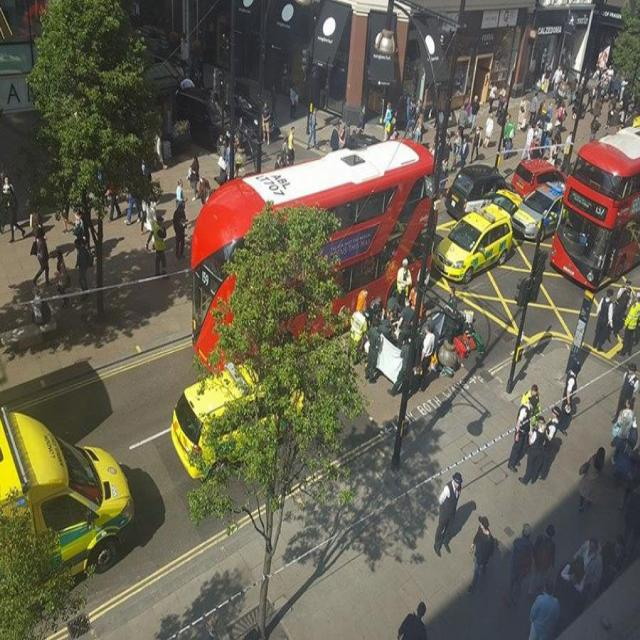body: (518, 50, 640, 170), (386, 95, 460, 181), (603, 439, 640, 588), (569, 534, 603, 624), (433, 470, 463, 558), (503, 522, 535, 602), (464, 516, 495, 598), (507, 394, 538, 472), (525, 576, 562, 639), (526, 522, 556, 597), (437, 498, 477, 553), (573, 446, 605, 513), (517, 414, 546, 487), (535, 404, 562, 480), (609, 394, 637, 466), (368, 288, 400, 351), (558, 358, 582, 438), (387, 332, 415, 398), (560, 555, 587, 623), (611, 362, 640, 425), (339, 102, 371, 154), (616, 289, 639, 356), (345, 305, 370, 365), (219, 126, 247, 179), (591, 287, 613, 352), (610, 279, 634, 338), (394, 598, 428, 639), (72, 235, 94, 298), (362, 316, 382, 383), (151, 214, 170, 283), (30, 225, 50, 290), (6, 184, 26, 246), (189, 176, 229, 207), (97, 234, 128, 272), (143, 193, 162, 254), (540, 434, 564, 479), (396, 295, 415, 350), (419, 321, 435, 386), (27, 288, 53, 326), (172, 203, 189, 260), (54, 248, 70, 307), (1, 176, 15, 237), (186, 152, 202, 202), (396, 257, 412, 306), (520, 383, 542, 417), (564, 394, 582, 435), (305, 106, 321, 152), (502, 112, 516, 162), (630, 284, 640, 350), (216, 138, 230, 185), (328, 120, 341, 170), (559, 131, 575, 170), (48, 236, 74, 260), (107, 179, 121, 223), (34, 204, 46, 252), (553, 100, 568, 138), (125, 193, 142, 226), (550, 63, 564, 103), (260, 100, 272, 146), (468, 94, 481, 134), (469, 124, 482, 164), (494, 86, 509, 120), (60, 190, 71, 235), (456, 102, 468, 142), (73, 204, 87, 238), (482, 111, 494, 150), (322, 71, 334, 108), (287, 125, 297, 167), (279, 134, 289, 176), (382, 101, 392, 143), (307, 136, 329, 154), (458, 136, 469, 170), (529, 92, 540, 126), (176, 178, 188, 208), (549, 138, 561, 168), (356, 287, 370, 311), (488, 79, 498, 112), (289, 82, 297, 121), (274, 154, 282, 191), (448, 284, 458, 308), (488, 136, 497, 152)
